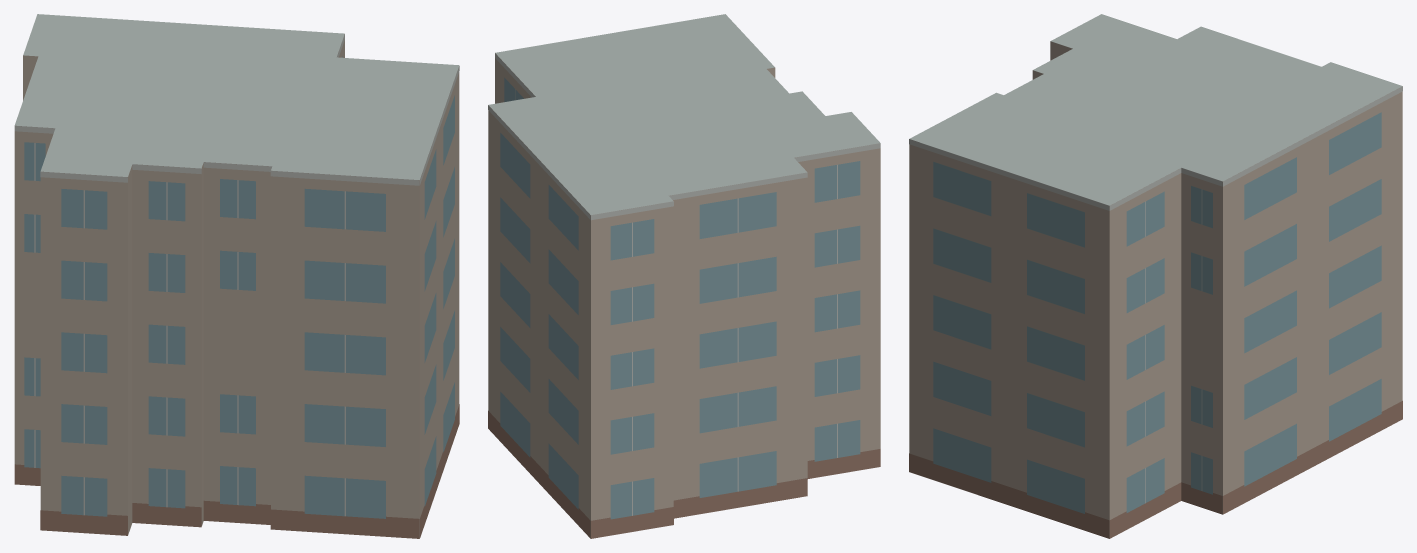
File: survey-upis-32954518.glb
The picture shows the model from 3 angles, left to right: view 1: azimuth 30°, elevation 25°; view 2: azimuth 150°, elevation 25°; view 3: azimuth 270°, elevation 25°; orthographic projection. The views are drawn at different scales.
Visible parts, largest first — view 1: survey-upis-32954518.tmp; view 2: survey-upis-32954518.tmp; view 3: survey-upis-32954518.tmp.
Part boxes in pixels (left/top/right/bottom): survey-upis-32954518.tmp: left=14, top=14, right=459, bottom=538; survey-upis-32954518.tmp: left=488, top=14, right=880, bottom=538; survey-upis-32954518.tmp: left=909, top=14, right=1402, bottom=538.
Size of the model in its own units: 19.15 by 15.5 by 20.83.
